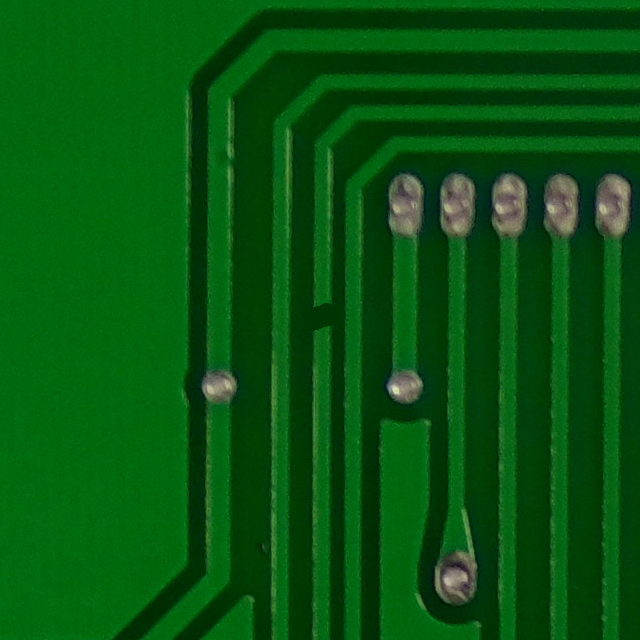open_circuit: (301, 287, 339, 354)
